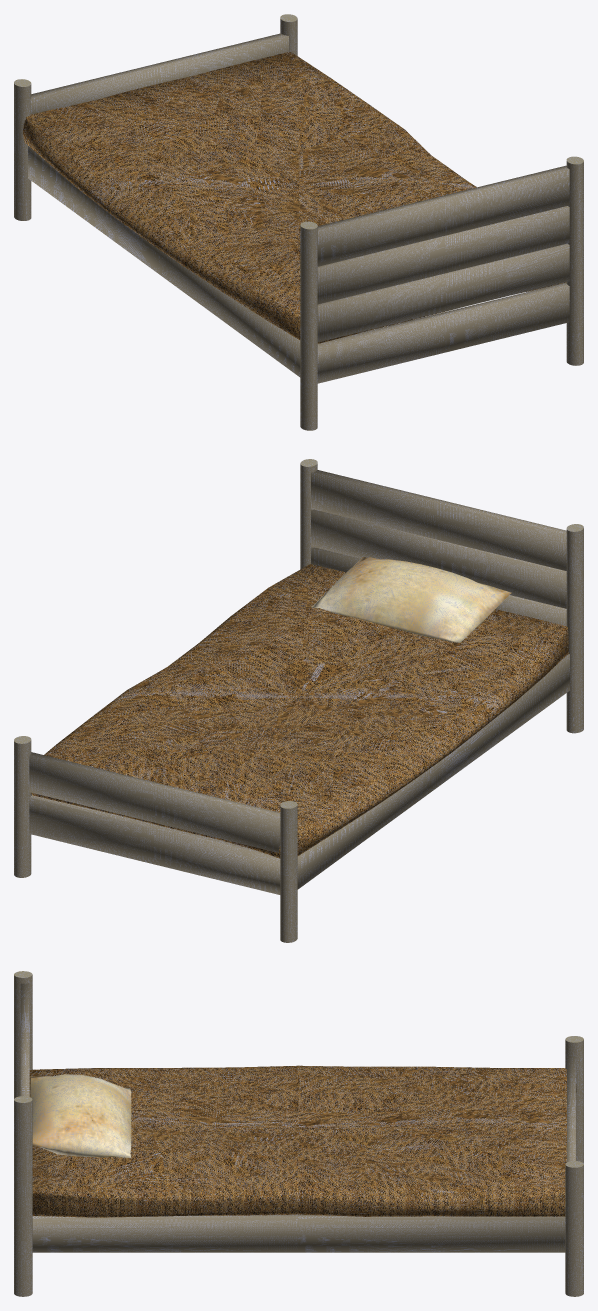
The model's file is ACC_BED.fbx.
The picture shows the model from 3 angles, top to bottom: view 1: azimuth 30°, elevation 25°; view 2: azimuth 150°, elevation 25°; view 3: azimuth 270°, elevation 25°; orthographic projection. The views are drawn at different scales.
Visible parts, largest first — view 1: Group2, Group6, Group4; view 2: Group2, Group6, Pillow1, Group4; view 3: Group2, Group6, Group4, Pillow1, Group5.
Part boxes in pixels (<box>): Group2: <box>23,52,566,343</box>; Group6: <box>28,33,569,383</box>; Group4: <box>14,19,583,430</box>; Group2: <box>31,564,568,858</box>; Group6: <box>29,470,569,894</box>; Pillow1: <box>311,557,511,642</box>; Group4: <box>14,464,583,942</box>; Group2: <box>29,1065,576,1217</box>; Group6: <box>20,983,575,1252</box>; Group4: <box>14,975,583,1296</box>; Pillow1: <box>30,1074,131,1157</box>; Group5: <box>14,971,583,1167</box>.
Bounding box in the file's own units: 60.11 × 39.09 × 104.
